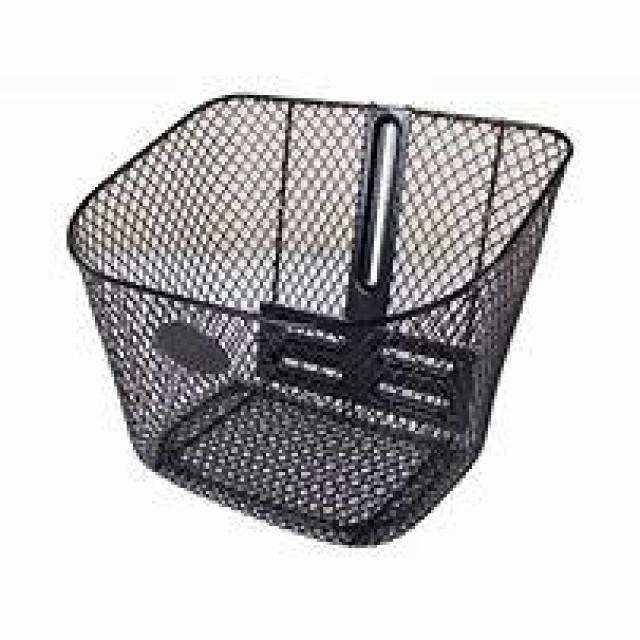basket: (63, 87, 570, 553)
